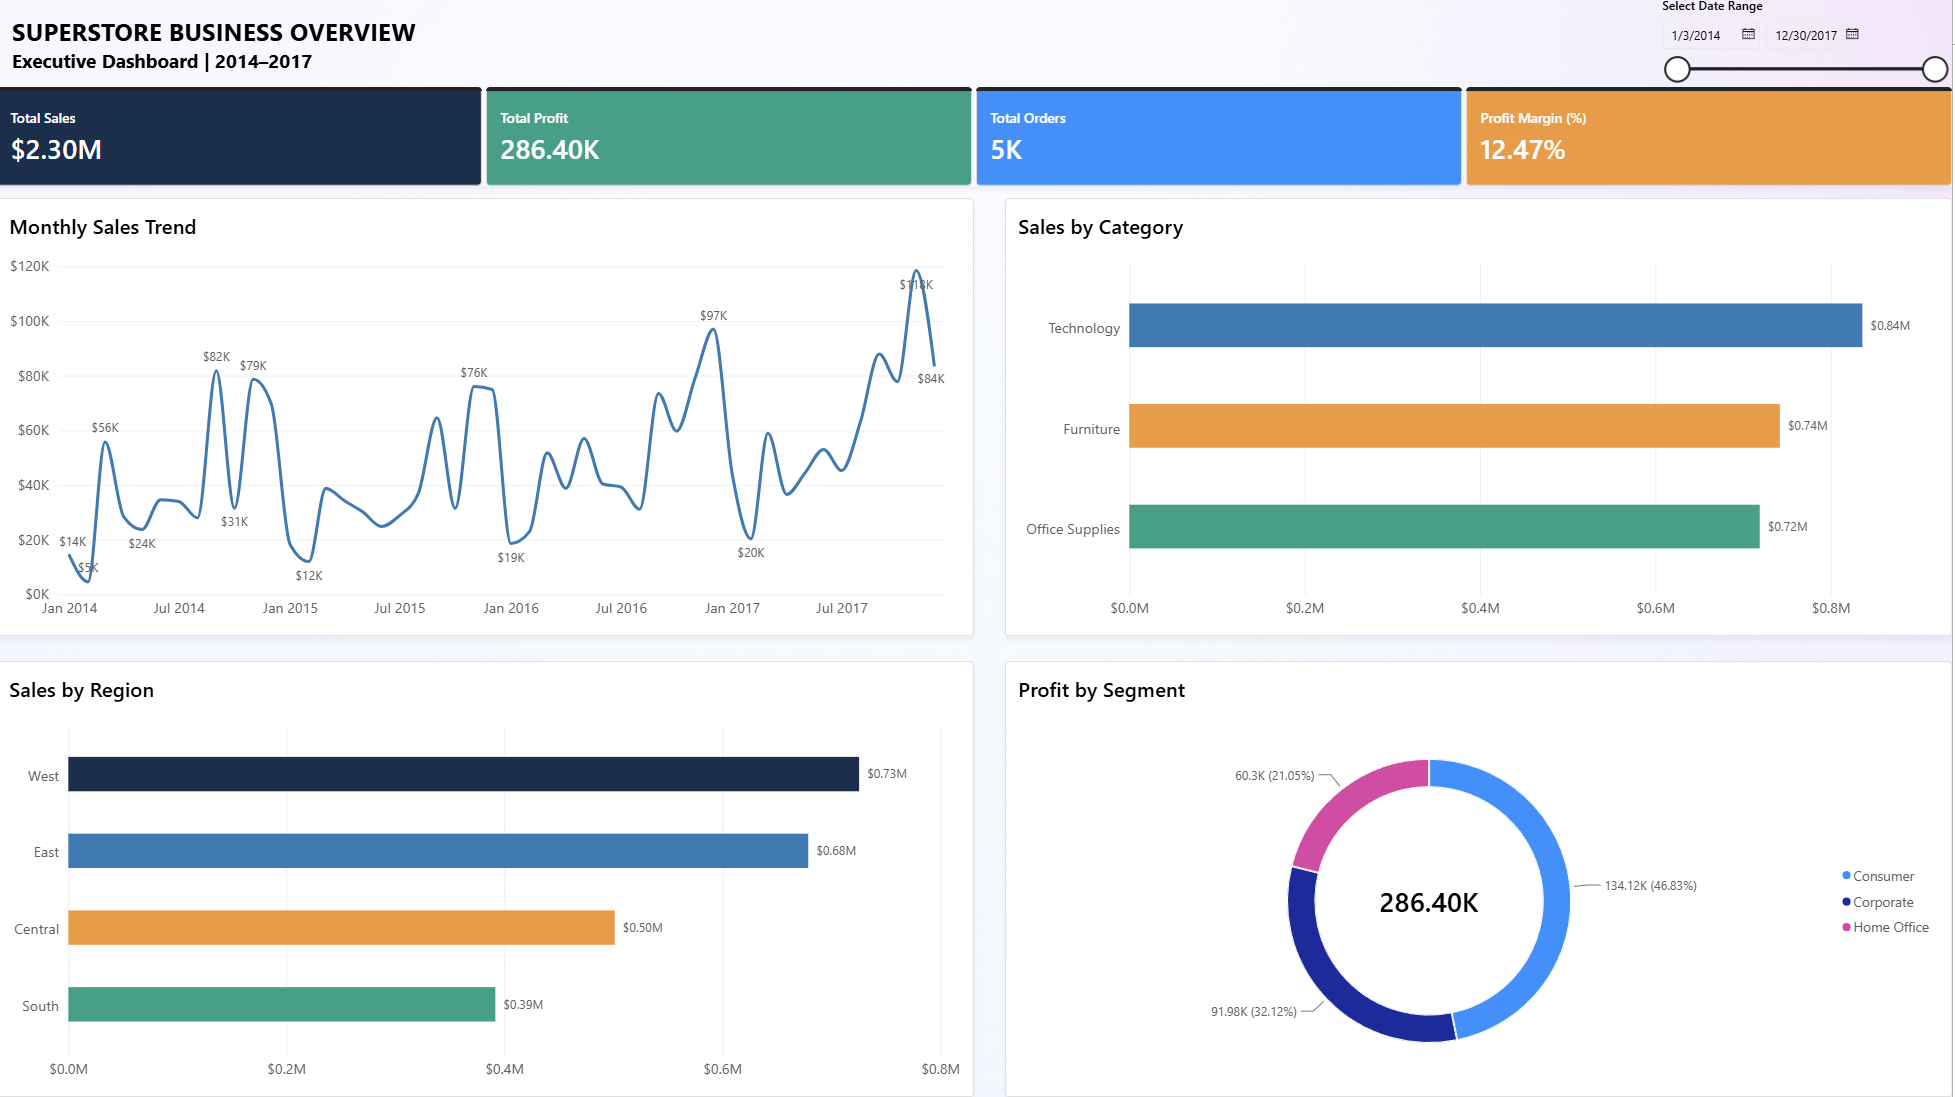

The page's visual inventory and layout, read from the dashboard file:
{"tool":"powerbi","page":{"name":"Page 1","canvas":[1920,1080],"ordinal":0},"visuals":[{"type":"cardVisual","fields":{"Data":["stg_superstore.Total Sales","stg_superstore.Total Profit","stg_superstore.Total Orders","stg_superstore.Profit Margin (%)"]},"box":[0,88.3,1920,97.2],"z":0},{"type":"lineChart","title":"Monthly Sales Trend","fields":{"Category":["stg_superstore.order_date.Variation.Date Hierarchy.Year","stg_superstore.order_date.Variation.Date Hierarchy.Month"],"Y":["stg_superstore.Total Sales"]},"box":[0,197.3,960,429.9],"z":1000},{"type":"clusteredBarChart","title":"Sales by Category","fields":{"Category":["stg_superstore.category"],"Y":["stg_superstore.Total Sales"]},"box":[990.4,197.3,929.6,429.9],"z":2000},{"type":"clusteredBarChart","title":"Sales by Region","fields":{"Category":["stg_superstore.region"],"Y":["stg_superstore.Total Sales"]},"box":[0,651.8,960,428],"z":3000},{"type":"donutChart","title":"Profit by Segment","fields":{"Category":["stg_superstore.segment"],"Y":["stg_superstore.Total Profit"]},"box":[990.4,651.8,929.6,428],"z":4000},{"type":"textbox","box":[15.7,17.7,678.3,70.7],"z":5000},{"type":"slicer","fields":{"Values":["stg_superstore.order_date"]},"box":[1627.5,0,292.5,88.3],"z":6000}]}

Visuals, with their boxes in screenshot pixels (x1, y1, x2, y2), scaled from the page's 1920x1080 canvas onto the 1955x1097 screenshot:
cardVisual - stg_superstore.Total Sales x stg_superstore.Total Profit: [left=0, top=90, right=1954, bottom=188]
"Monthly Sales Trend" lineChart: [left=0, top=200, right=978, bottom=637]
"Sales by Category" clusteredBarChart: [left=1008, top=200, right=1954, bottom=637]
"Sales by Region" clusteredBarChart: [left=0, top=662, right=978, bottom=1096]
"Profit by Segment" donutChart: [left=1008, top=662, right=1954, bottom=1096]
textbox: [left=16, top=18, right=707, bottom=90]
slicer - stg_superstore.order_date: [left=1657, top=0, right=1954, bottom=90]
